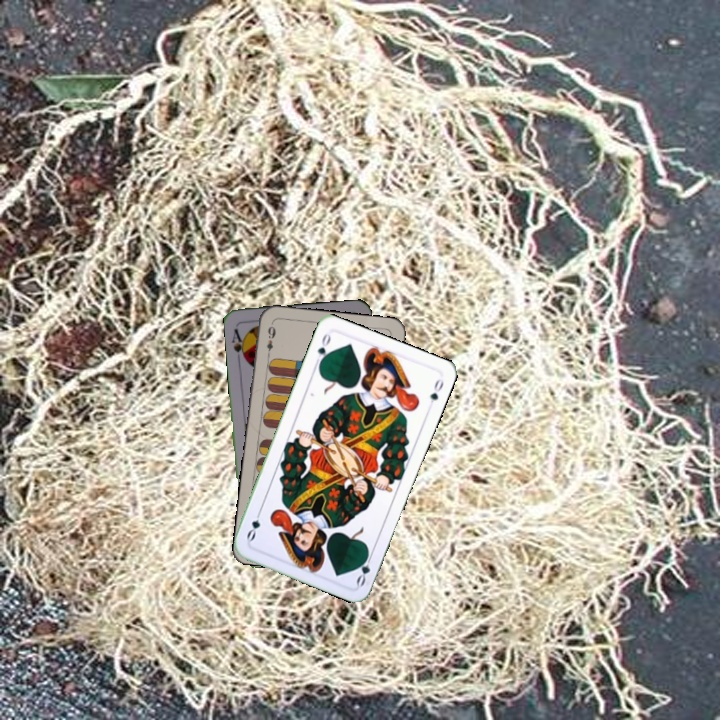E9: (262, 322, 278, 360)
GO: (352, 548, 375, 589), (311, 330, 333, 369)
SA: (228, 325, 249, 364)
